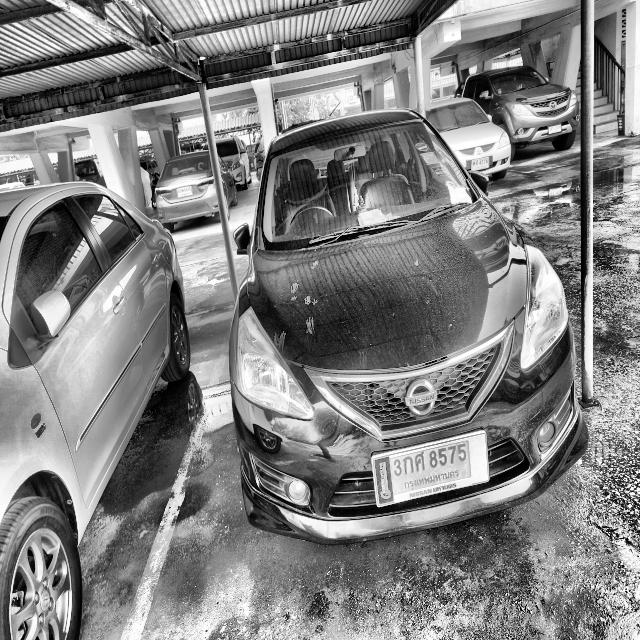license-plate: (371, 430, 490, 509), (472, 154, 492, 172), (174, 183, 195, 200), (548, 122, 564, 135)
